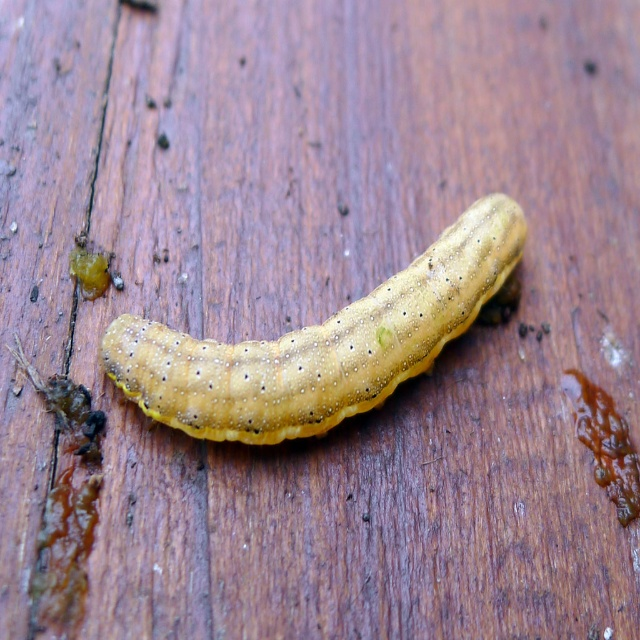Caterpillar: (99, 178, 533, 443)
